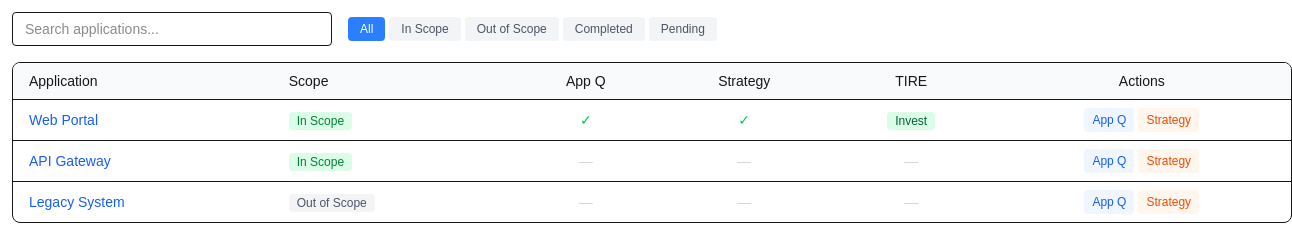
ApplicationTable › filters by Completed
The width and height of the screenshot is (1292, 240).
Click the button "Completed".
click(604, 29)  # box [563,17,645,41]
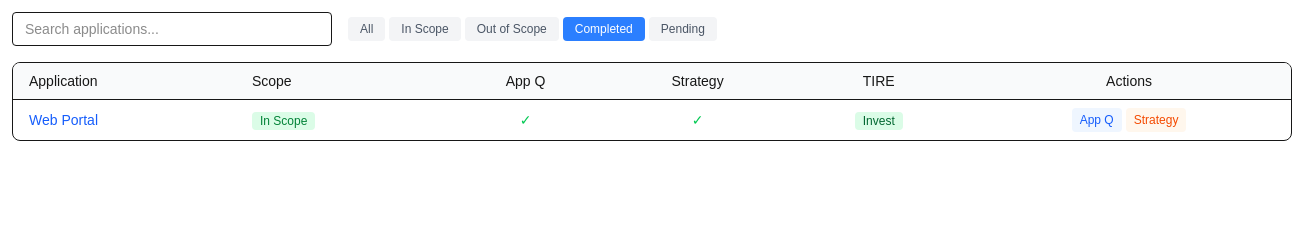
Expected: the link "Web Portal" is shown, [29,112,98,128]
Result: the link "API Gateway" is gone
